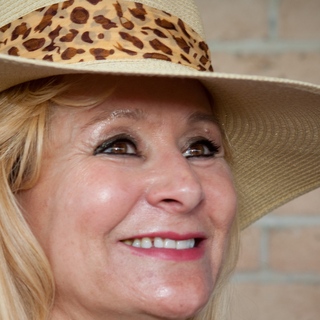eye: (91, 133, 147, 164), (180, 134, 221, 163)
